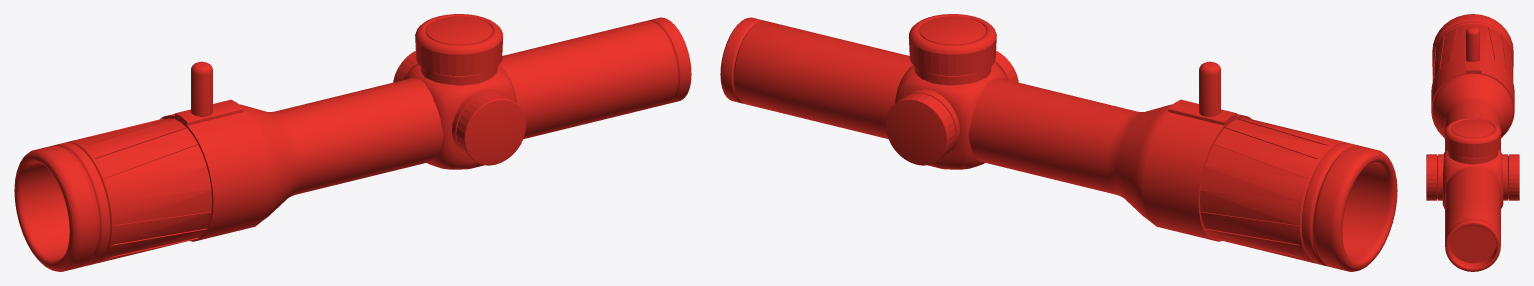
File: VuduOptic.fbx
The picture shows the model from 3 angles, left to right: view 1: azimuth 30°, elevation 25°; view 2: azimuth 150°, elevation 25°; view 3: azimuth 270°, elevation 25°; orthographic projection. The views are drawn at different scales.
Parts seen in each view (by area): view 1: Vudu, MagificationSlider; view 2: Vudu, MagificationSlider; view 3: Vudu, MagificationSlider.
Part boxes in pixels (x1,y1,x2,y2): Vudu: [14, 14, 691, 271]; MagificationSlider: [160, 61, 269, 241]; Vudu: [720, 14, 1397, 271]; MagificationSlider: [1142, 61, 1251, 241]; Vudu: [1426, 14, 1519, 271]; MagificationSlider: [1431, 27, 1514, 137].
Bounding box in the file's own units: 26.47 × 6.76 × 5.27.
